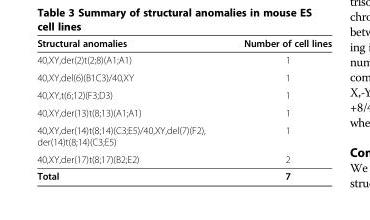table: (36, 37, 331, 181)
table column: (36, 37, 223, 181), (223, 37, 331, 181)
table column header: (36, 37, 331, 51)
table row: (36, 121, 331, 150), (36, 85, 331, 103), (36, 103, 331, 121), (36, 51, 331, 68), (36, 68, 331, 85), (36, 150, 331, 167), (36, 37, 331, 51), (36, 167, 331, 181)
